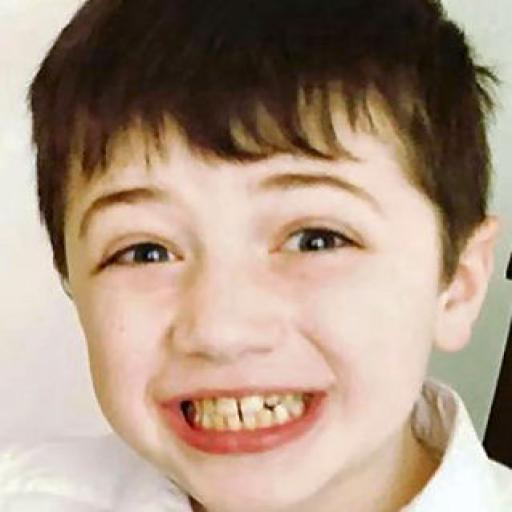Autism: (11, 0, 506, 512)
